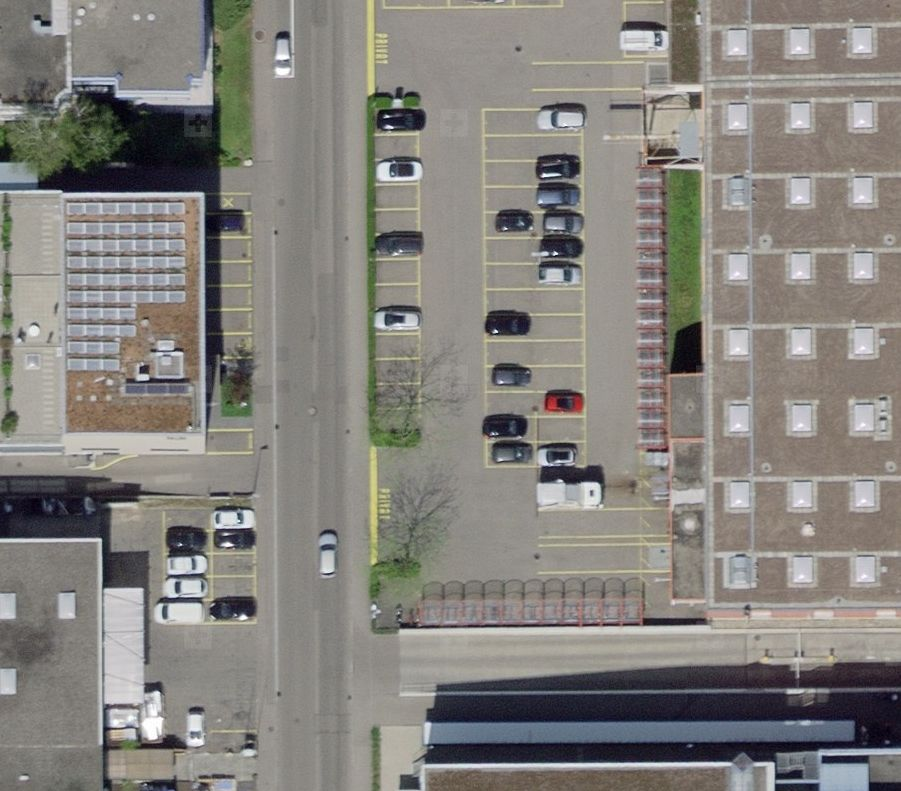solar: (63, 199, 186, 374)
